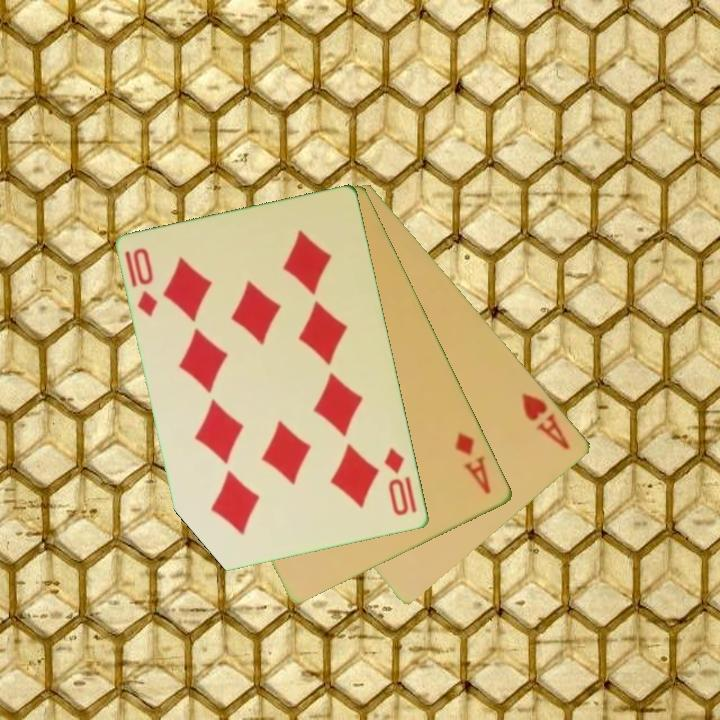10d: (130, 244, 162, 320), (381, 444, 412, 519)
Ad: (452, 429, 495, 498)
Ah: (518, 389, 574, 453)
